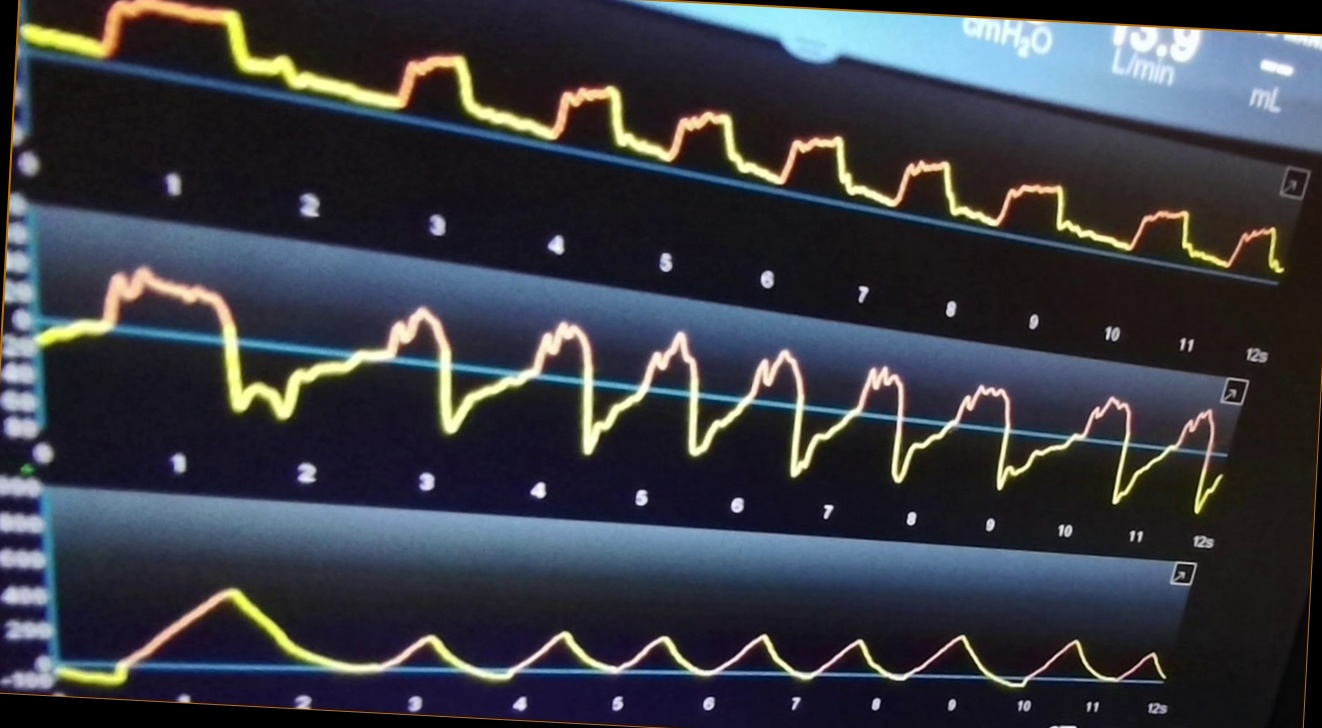Accumulation Flow: (43, 262, 1220, 524)
Volume: (60, 564, 1172, 715)
